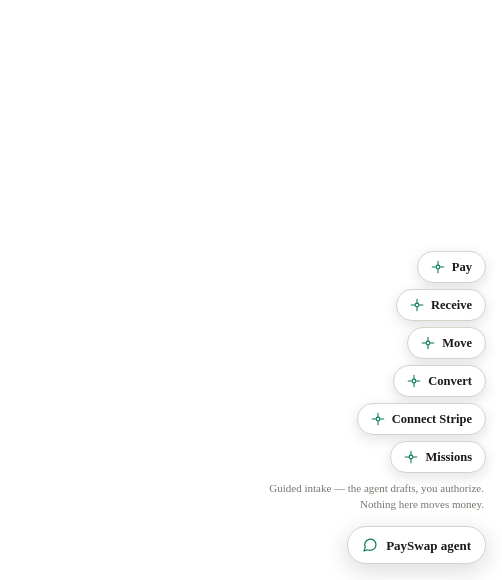
the convergence law (a chip click seeds the ONE shared orchestration) › a Pay chip click opens the panel with the seeded surface action + the area provenance
Click the button "Pay" at (451, 267), box 417,251 -> 486,283
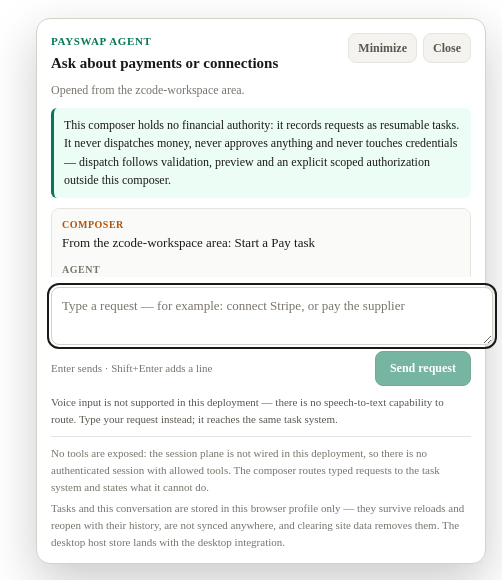
Now the text "From the zcode-workspace area: Start a Pay task" is shown, box 62,235 -> 315,250
